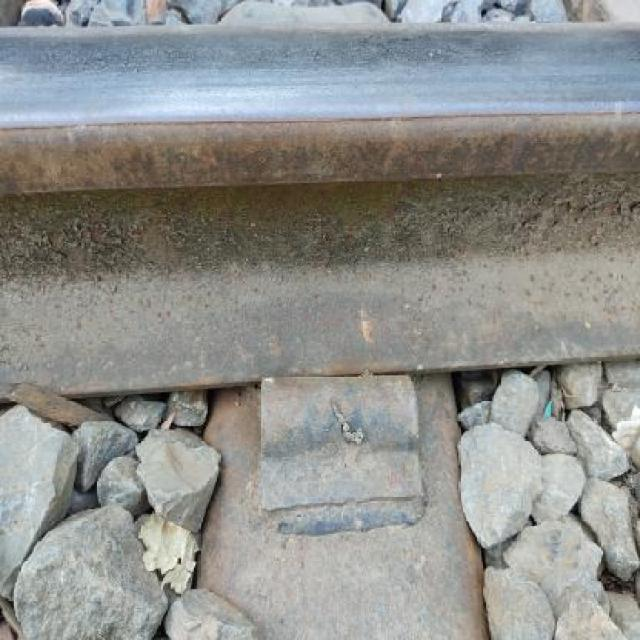non-defective: (7, 0, 640, 635)
